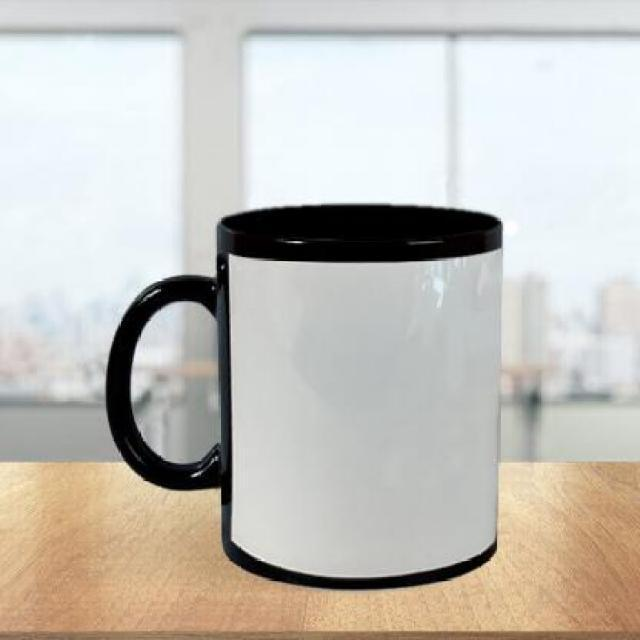taza: (104, 202, 506, 592)
